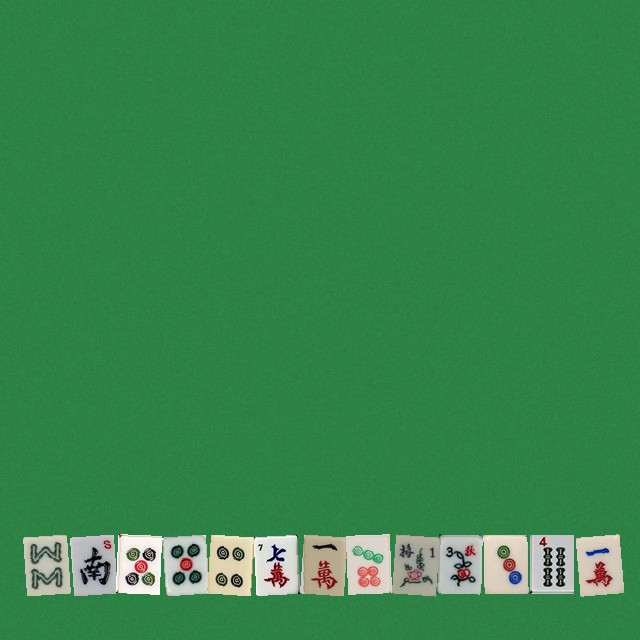tile: (23, 534, 67, 593), (69, 534, 113, 593), (115, 534, 159, 593), (161, 534, 205, 593), (207, 534, 251, 593), (253, 534, 297, 593), (299, 534, 343, 593), (345, 534, 389, 593), (391, 534, 435, 593), (437, 534, 481, 593), (483, 534, 527, 593), (529, 534, 573, 593), (575, 534, 619, 593)
